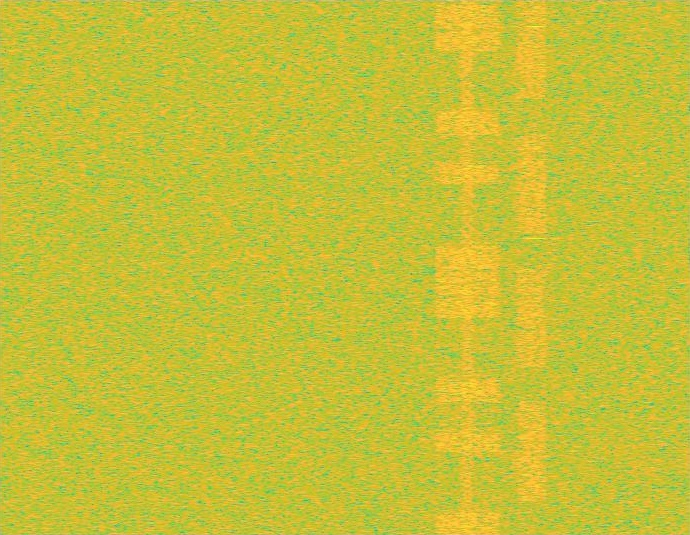5G: (515, 0, 549, 534)
DSSS: (460, 0, 475, 534)
LTE: (433, 0, 502, 534)
Radar: (528, 0, 542, 534)
